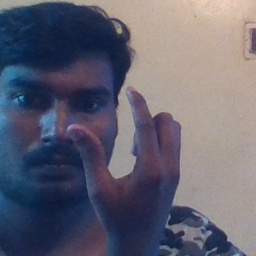U: (71, 85, 186, 227)
